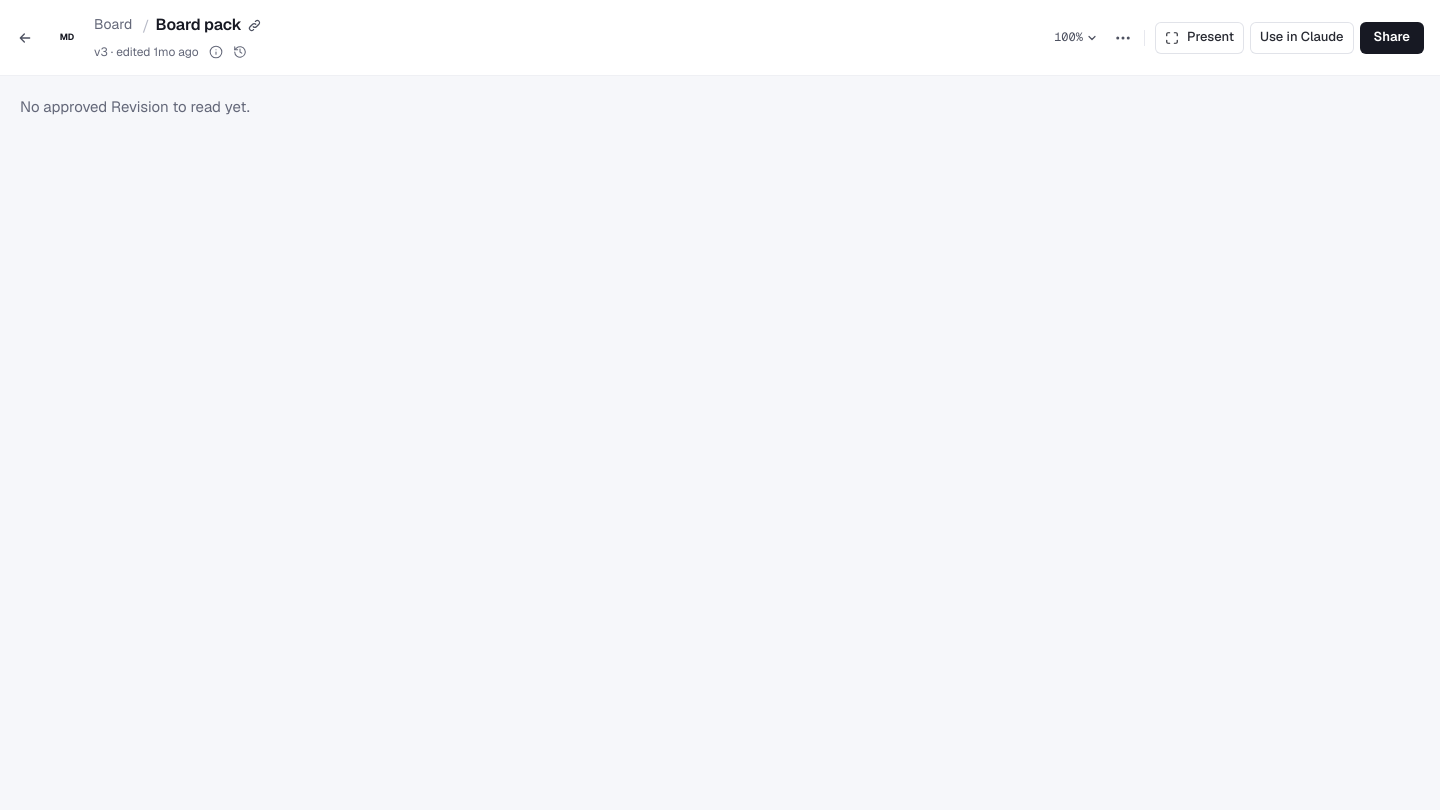
Test case: PreviewPane header › opens a shared /artifacts/:id link as the full page, whose Back goes to the file's Project
Click the button named "Back". click: (25, 38)
box: x1=10 y1=22 x2=40 y2=52
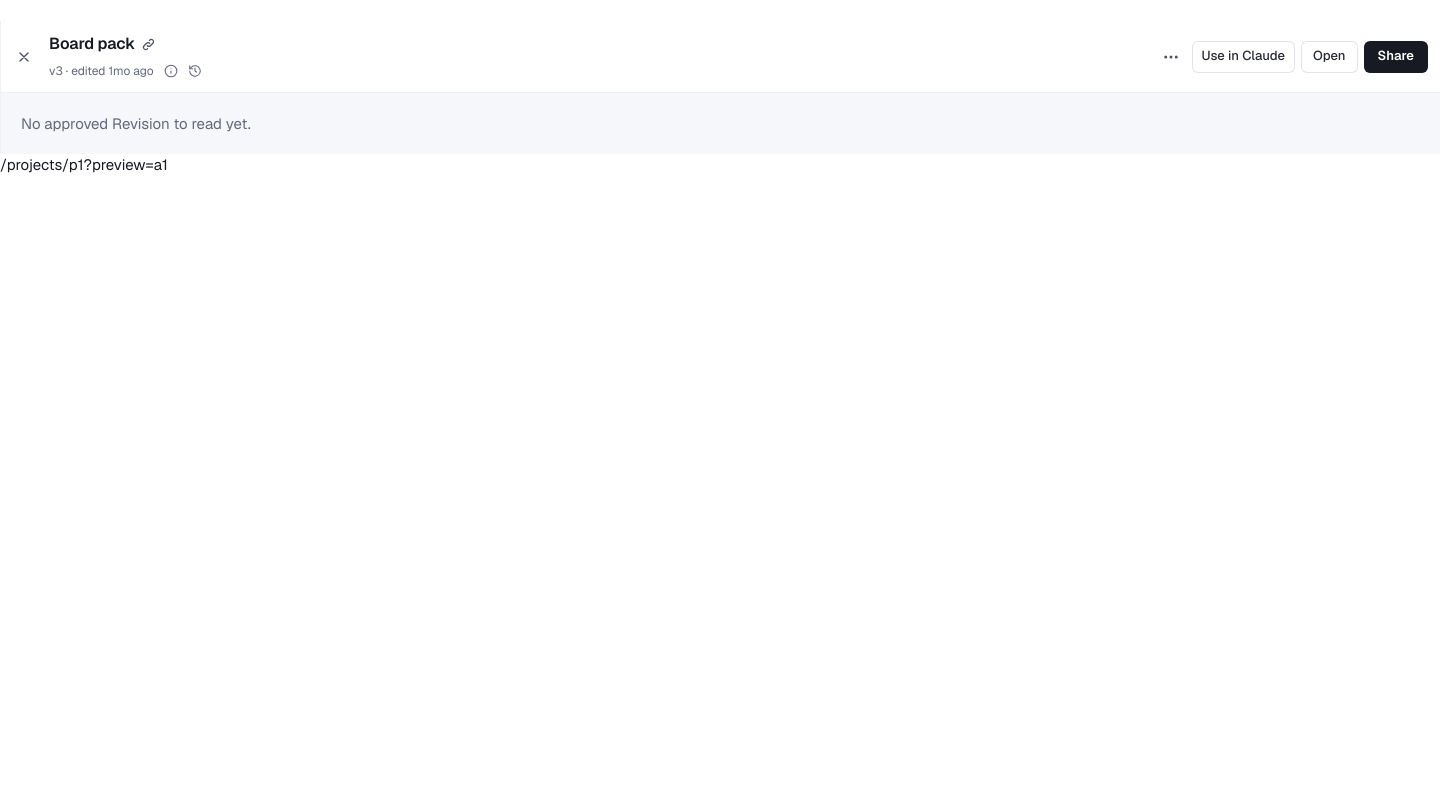
Check: the text with test id "where" reads "/projects/p1?preview=a1", box x1=0 y1=155 x2=168 y2=174
